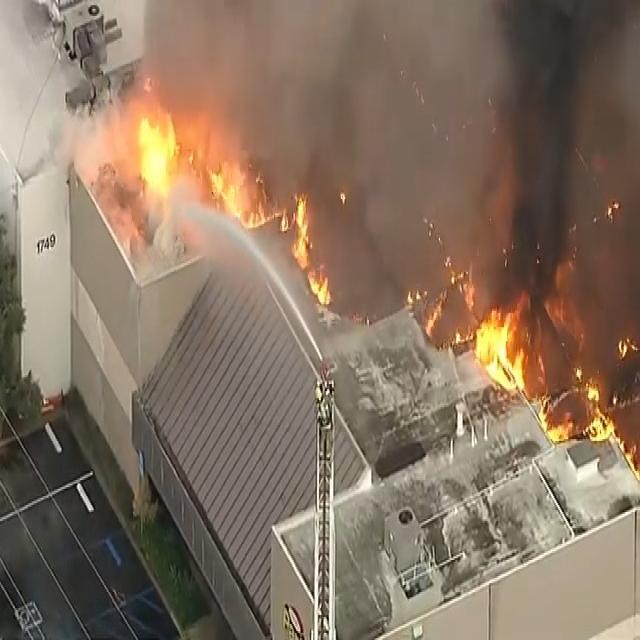Fire: (442, 268, 590, 444), (134, 72, 254, 210), (278, 184, 337, 294)
Smoke: (154, 0, 640, 171), (350, 139, 632, 364)
